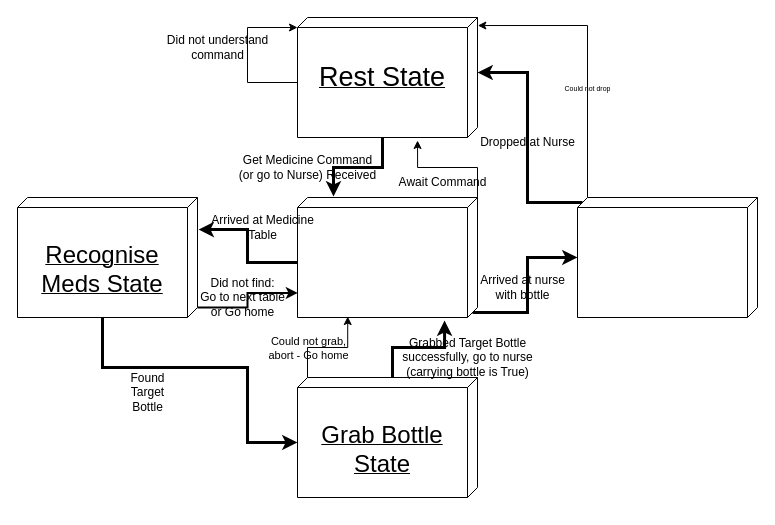
The diagram is 775 pixels wide and 525 high, and some of its shapes have lost their labels. The shapes that lost their labels are listed below. From the top down, each one's centre as x and y in pixels, then its label:
(387,257): Move State
(667,257): Drop Bottle State
